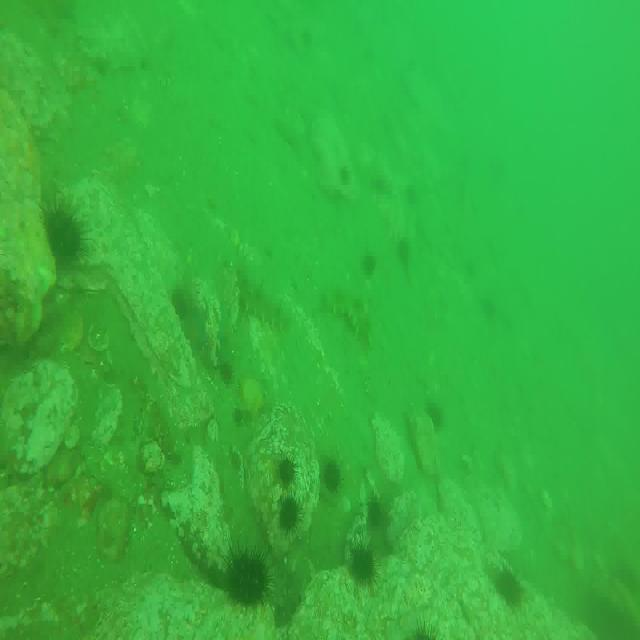echinus: (43, 199, 87, 269), (227, 552, 271, 606), (495, 563, 523, 609), (349, 544, 377, 590), (278, 496, 303, 537), (321, 458, 343, 499), (276, 451, 298, 491), (426, 396, 447, 432), (408, 620, 443, 640), (170, 289, 190, 323), (365, 496, 383, 529), (361, 250, 376, 276)
holothurian: (232, 267, 291, 333), (320, 282, 374, 344)
